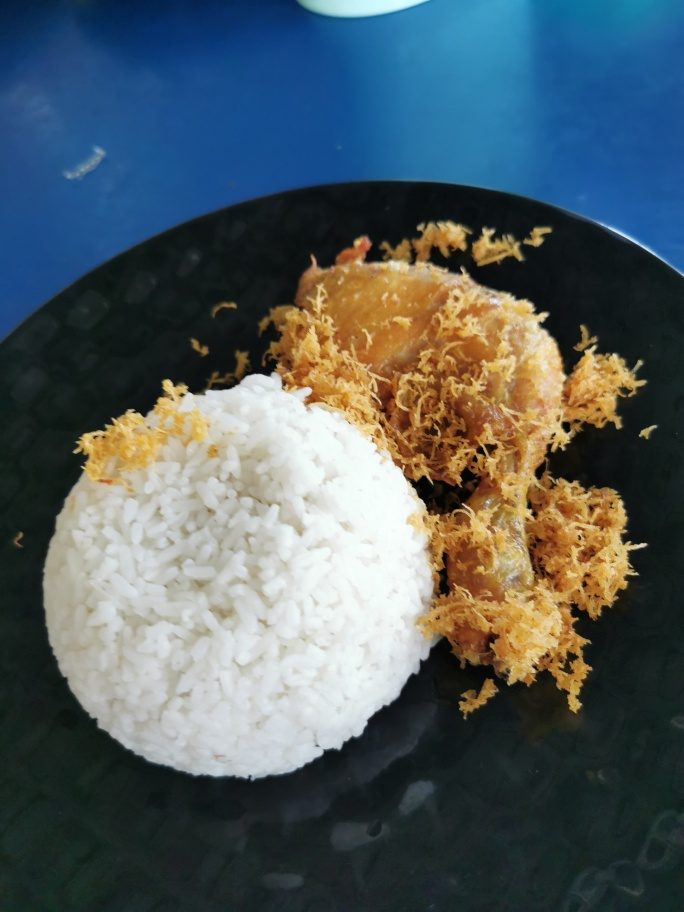ayam goreng: (289, 239, 648, 715)
nasi putih: (46, 362, 439, 801)
